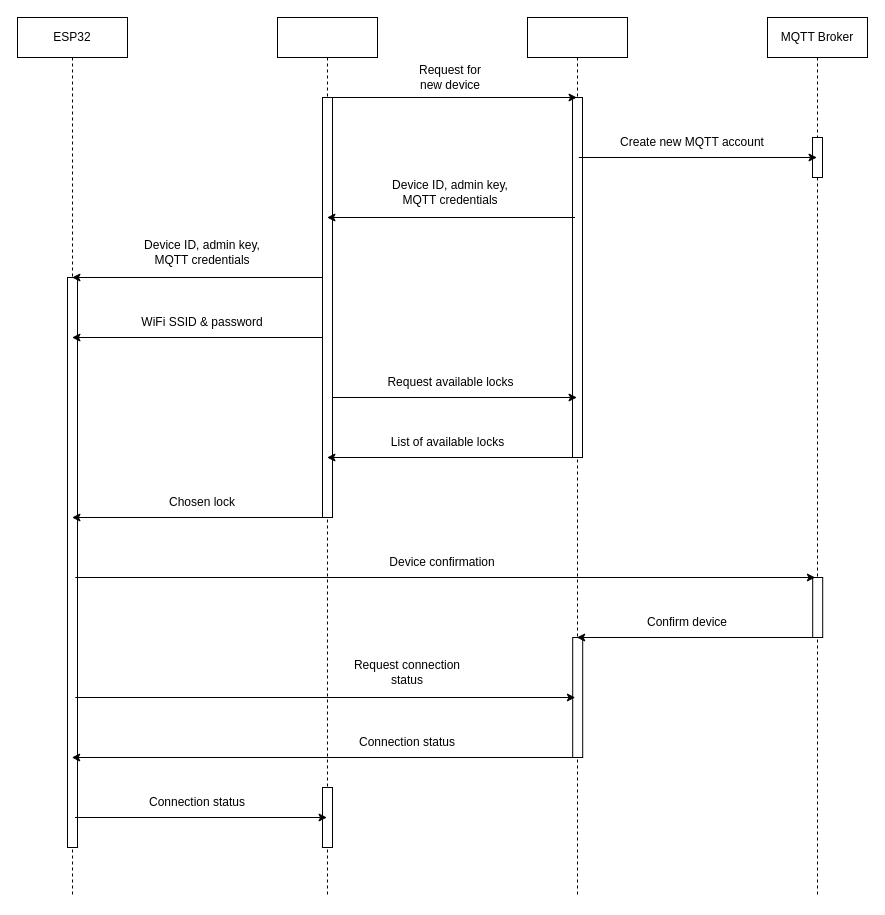
The diagram is 885 pixels wide and 915 high, and some of its shapes have lost their labels. Each missing label, with the box of its shape:
Admin Desktop App: (276, 16, 378, 898)
Server: (526, 16, 628, 898)
